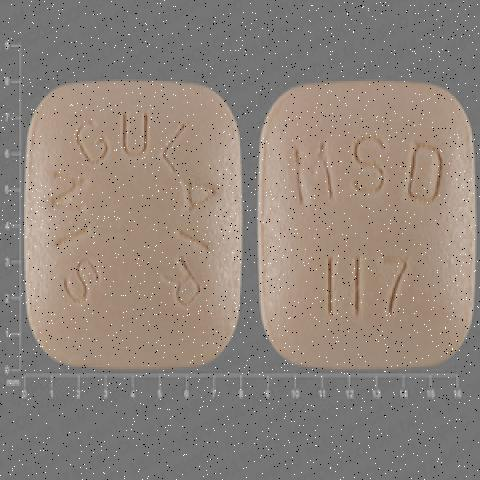Pill: (19, 46, 248, 426), (253, 44, 477, 402)
